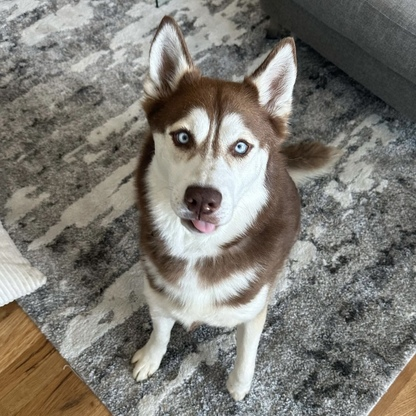husky: (123, 8, 345, 407)
